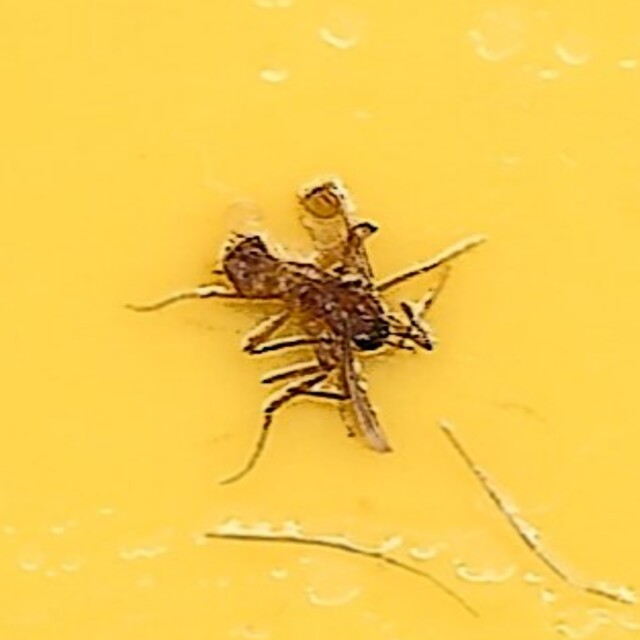Nematocera: (204, 173, 436, 467)
